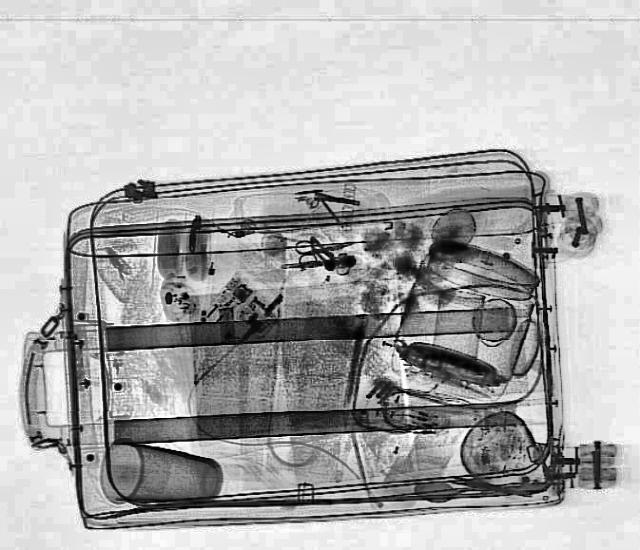Scissors: (292, 229, 363, 268)
